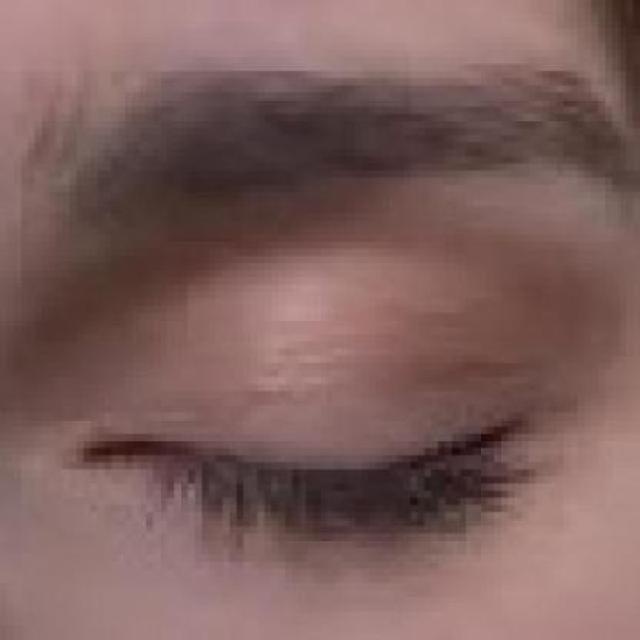drowsy: (80, 358, 542, 593)
